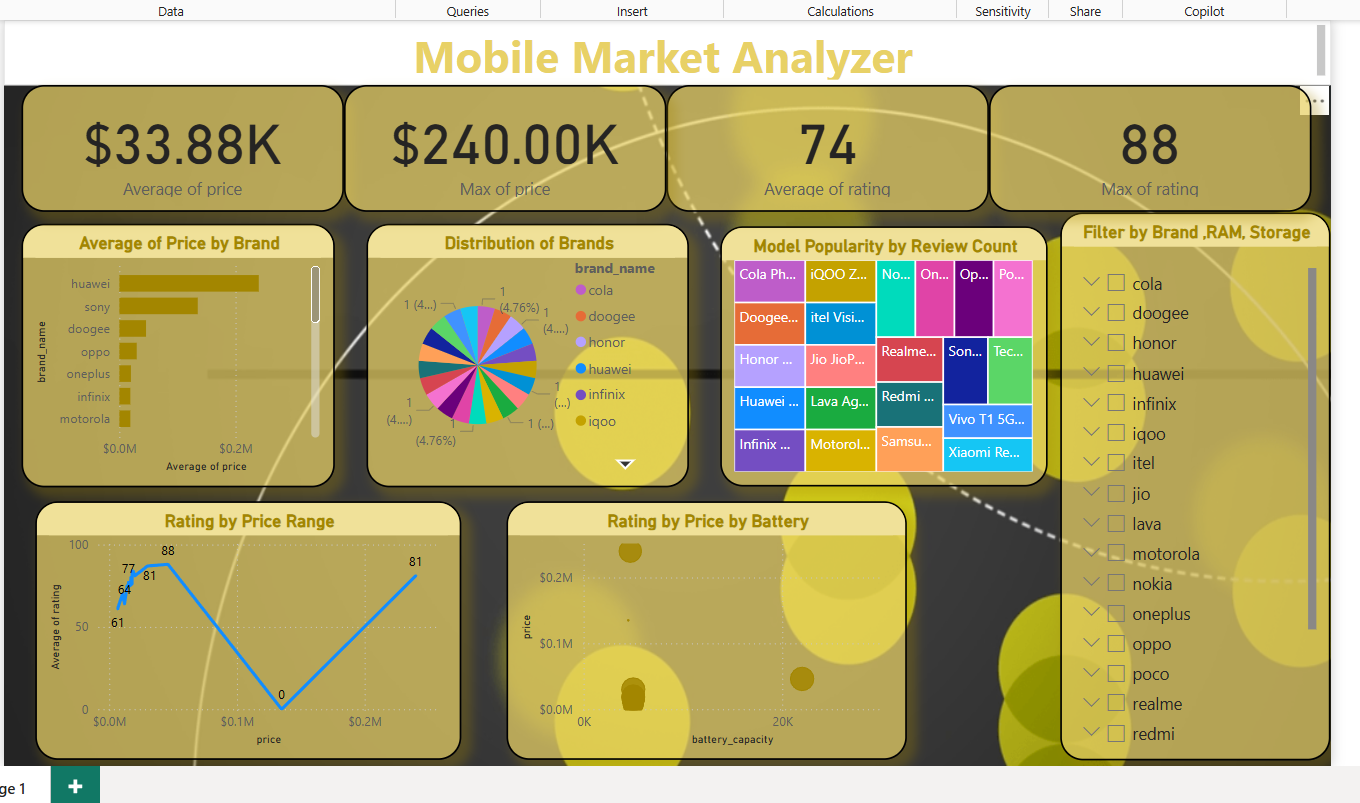

The page's visual inventory and layout, read from the dashboard file:
{"tool":"powerbi","page":{"name":"Page 1","canvas":[1280,720],"ordinal":0},"visuals":[{"type":"clusteredBarChart","title":"Average of Price by Brand","fields":{"Y":["Avg(Smartphones_cleaned_dataset.price)"],"Category":["Smartphones_cleaned_dataset.brand_name"]},"box":[16.9,196.3,302.1,254.5],"z":0},{"type":"textbox","box":[0,0,1280.3,62.9],"z":1000},{"type":"pieChart","title":"Distribution of Brands","fields":{"Category":["Smartphones_cleaned_dataset.brand_name"],"Y":["CountNonNull(Smartphones_cleaned_dataset.brand_name)"]},"box":[349.6,196.3,311.3,254.5],"z":2000},{"type":"treemap","title":"Model Popularity by Review Count","fields":{"Group":["Smartphones_cleaned_dataset.model"],"Values":["Count(Smartphones_cleaned_dataset.rating)"]},"box":[691.5,199.3,315.9,251.5],"z":3000},{"type":"lineChart","title":"Rating by Price Range","fields":{"Y":["Avg(Smartphones_cleaned_dataset.rating)"],"Category":["Smartphones_cleaned_dataset.price"]},"box":[30.7,464.6,410.9,249.9],"z":4000},{"type":"scatterChart","title":"Rating by Price by Battery","fields":{"X":["Smartphones_cleaned_dataset.battery_capacity"],"Y":["Smartphones_cleaned_dataset.price"],"Size":["Avg(Smartphones_cleaned_dataset.rating)"]},"box":[484.5,464.6,386.4,249.9],"z":5000},{"type":"slicer","title":"Filter by Brand ,RAM, Storage","fields":{"Values":["Smartphones_cleaned_dataset.brand_name","Smartphones_cleaned_dataset.ram_capacity","Smartphones_cleaned_dataset.internal_memory"]},"box":[1019.6,185.5,260.7,529],"z":6000},{"type":"card","title":"Distribution of Brands","fields":{"Values":["Avg(Smartphones_cleaned_dataset.price)"]},"box":[16.9,62.9,311.3,122.7],"z":7000},{"type":"card","title":"Distribution of Brands","fields":{"Values":["Avg(Smartphones_cleaned_dataset.rating)"]},"box":[639.4,62.9,311.3,122.7],"z":8000},{"type":"card","title":"Distribution of Brands","fields":{"Values":["Max(Smartphones_cleaned_dataset.price)"]},"box":[328.1,62.9,311.3,122.7],"z":9000},{"type":"card","title":"Distribution of Brands","fields":{"Values":["Max(Smartphones_cleaned_dataset.rating)"]},"box":[950.7,62.9,311.3,122.7],"z":10000}]}

Visuals, with their boxes in screenshot pixels (x1, y1, x2, y2):
"Average of Price by Brand" clusteredBarChart: 4,220,320,487
textbox: 0,14,1327,80
"Distribution of Brands" pieChart: 352,220,678,487
"Model Popularity by Review Count" treemap: 710,223,1041,487
"Rating by Price Range" lineChart: 18,501,449,763
"Rating by Price by Battery" scatterChart: 493,501,898,763
"Filter by Brand ,RAM, Storage" slicer: 1054,209,1327,763
"Distribution of Brands" card: 4,80,330,209
"Distribution of Brands" card: 656,80,982,209
"Distribution of Brands" card: 330,80,656,209
"Distribution of Brands" card: 982,80,1308,209
